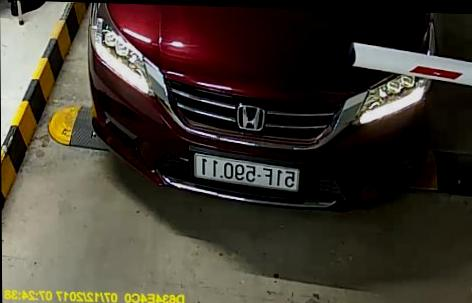License_Plate: (189, 154, 305, 192)
